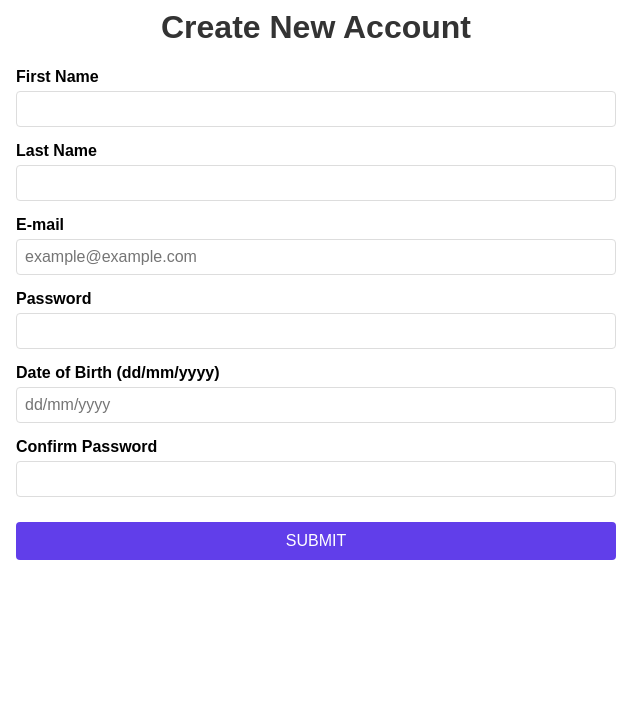
Test: Form validation tests › shows error messages when required fields are empty
The width and height of the screenshot is (633, 703).
Click the button "SUBMIT" at (316, 541), box [16,522,616,560]
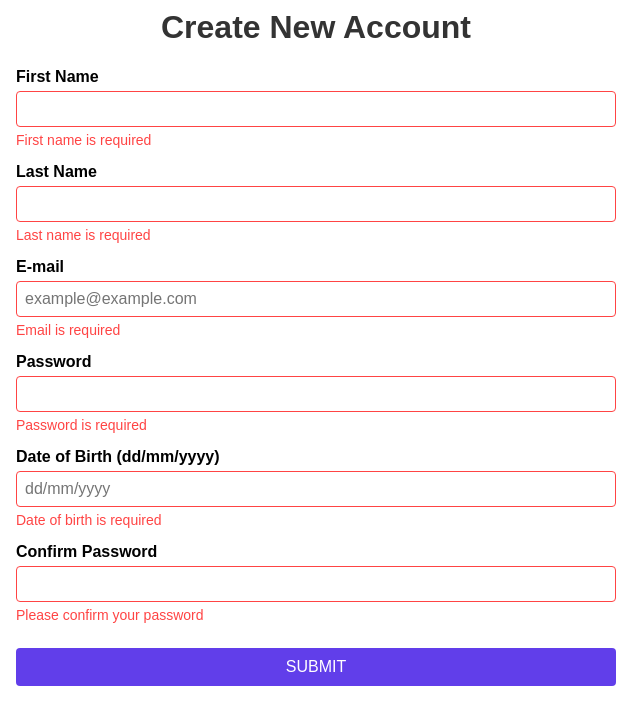
Check: the text "First name is required" is shown, box [16,132,151,148]
Check: the text "Last name is required" is shown, box [16,227,151,243]
Check: the text "Email is required" is shown, box [16,322,120,338]
